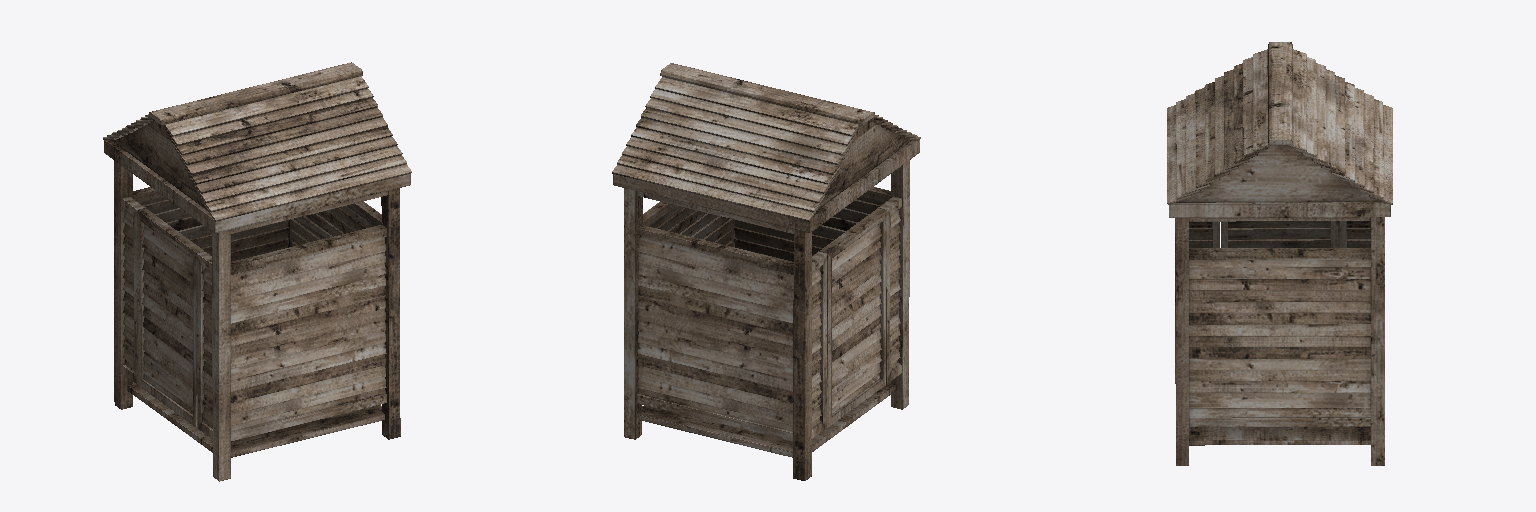
3 views of the same model, side by side, from view 1: azimuth 30°, elevation 25°; view 2: azimuth 150°, elevation 25°; view 3: azimuth 270°, elevation 25° (orthographic).
Parts seen in each view (by area): view 1: Mesh; view 2: Mesh; view 3: Mesh.
Part boxes in pixels (x1,y1,x2,y2): Mesh: (103,62,411,481); Mesh: (612,63,920,480); Mesh: (1167,42,1392,465).
Bounding box in the file's own units: 3.49 × 5.46 × 3.39.
Materials: 1 (1 with a texture image).